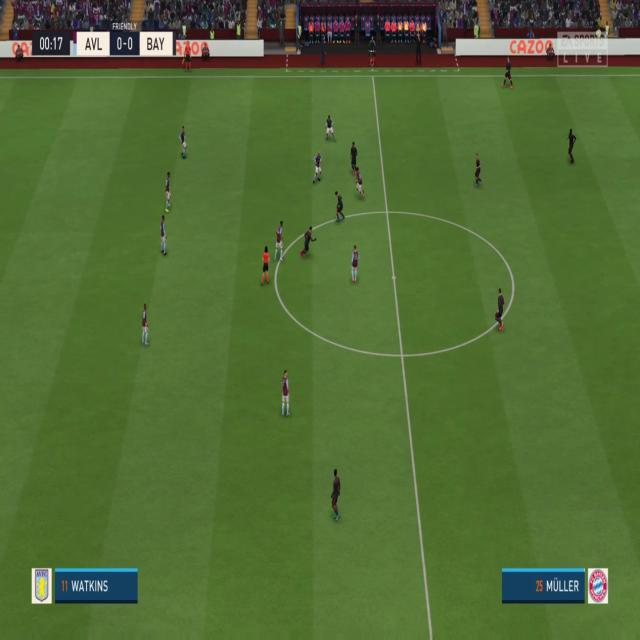Ball: (335, 214, 340, 221)
Referee: (262, 248, 271, 285)
Team-A: (329, 469, 343, 521), (493, 290, 506, 333), (301, 226, 316, 258), (501, 60, 514, 90), (568, 128, 578, 163), (474, 154, 484, 187), (335, 192, 345, 221), (349, 144, 358, 174)
Team-H: (280, 371, 292, 418), (274, 222, 286, 262), (140, 295, 149, 343), (177, 122, 189, 158), (164, 169, 173, 213), (160, 214, 169, 257), (349, 246, 359, 284), (313, 151, 324, 185), (355, 167, 365, 199), (326, 115, 337, 141)
